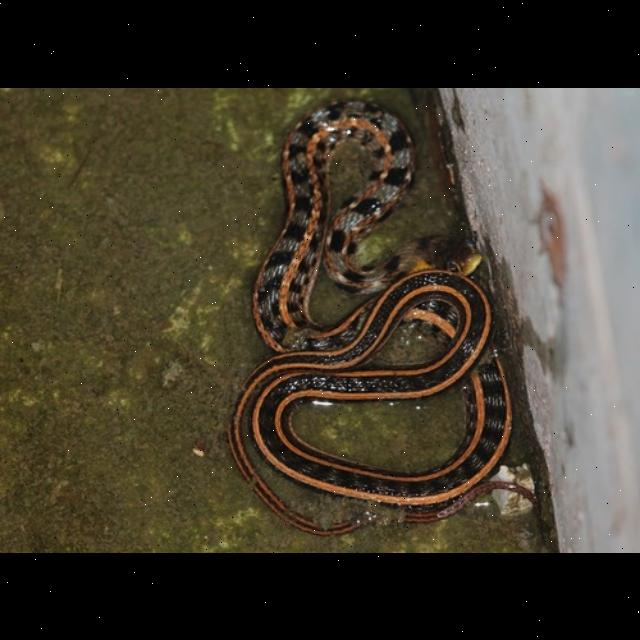snake: (209, 92, 513, 534)
